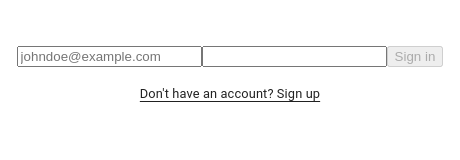
Test: AuthPage › shows generic error on server error (500)
In the field with placeholder "johndoe@example.com": (109, 56) [17,46,202,66], type "test@example.com"
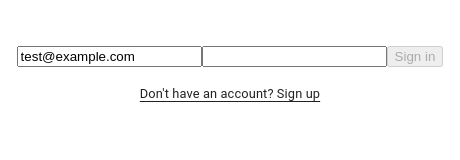
In the password field named "Password": (294, 56) [202,46,387,66], type "password123"
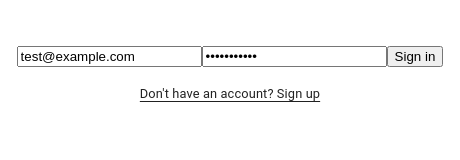
Click the button "Sign in": (415, 56) [387,46,443,66]
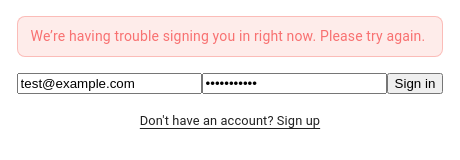
Expected: the text "trouble signing you in" is shown, [31,28,425,44]
